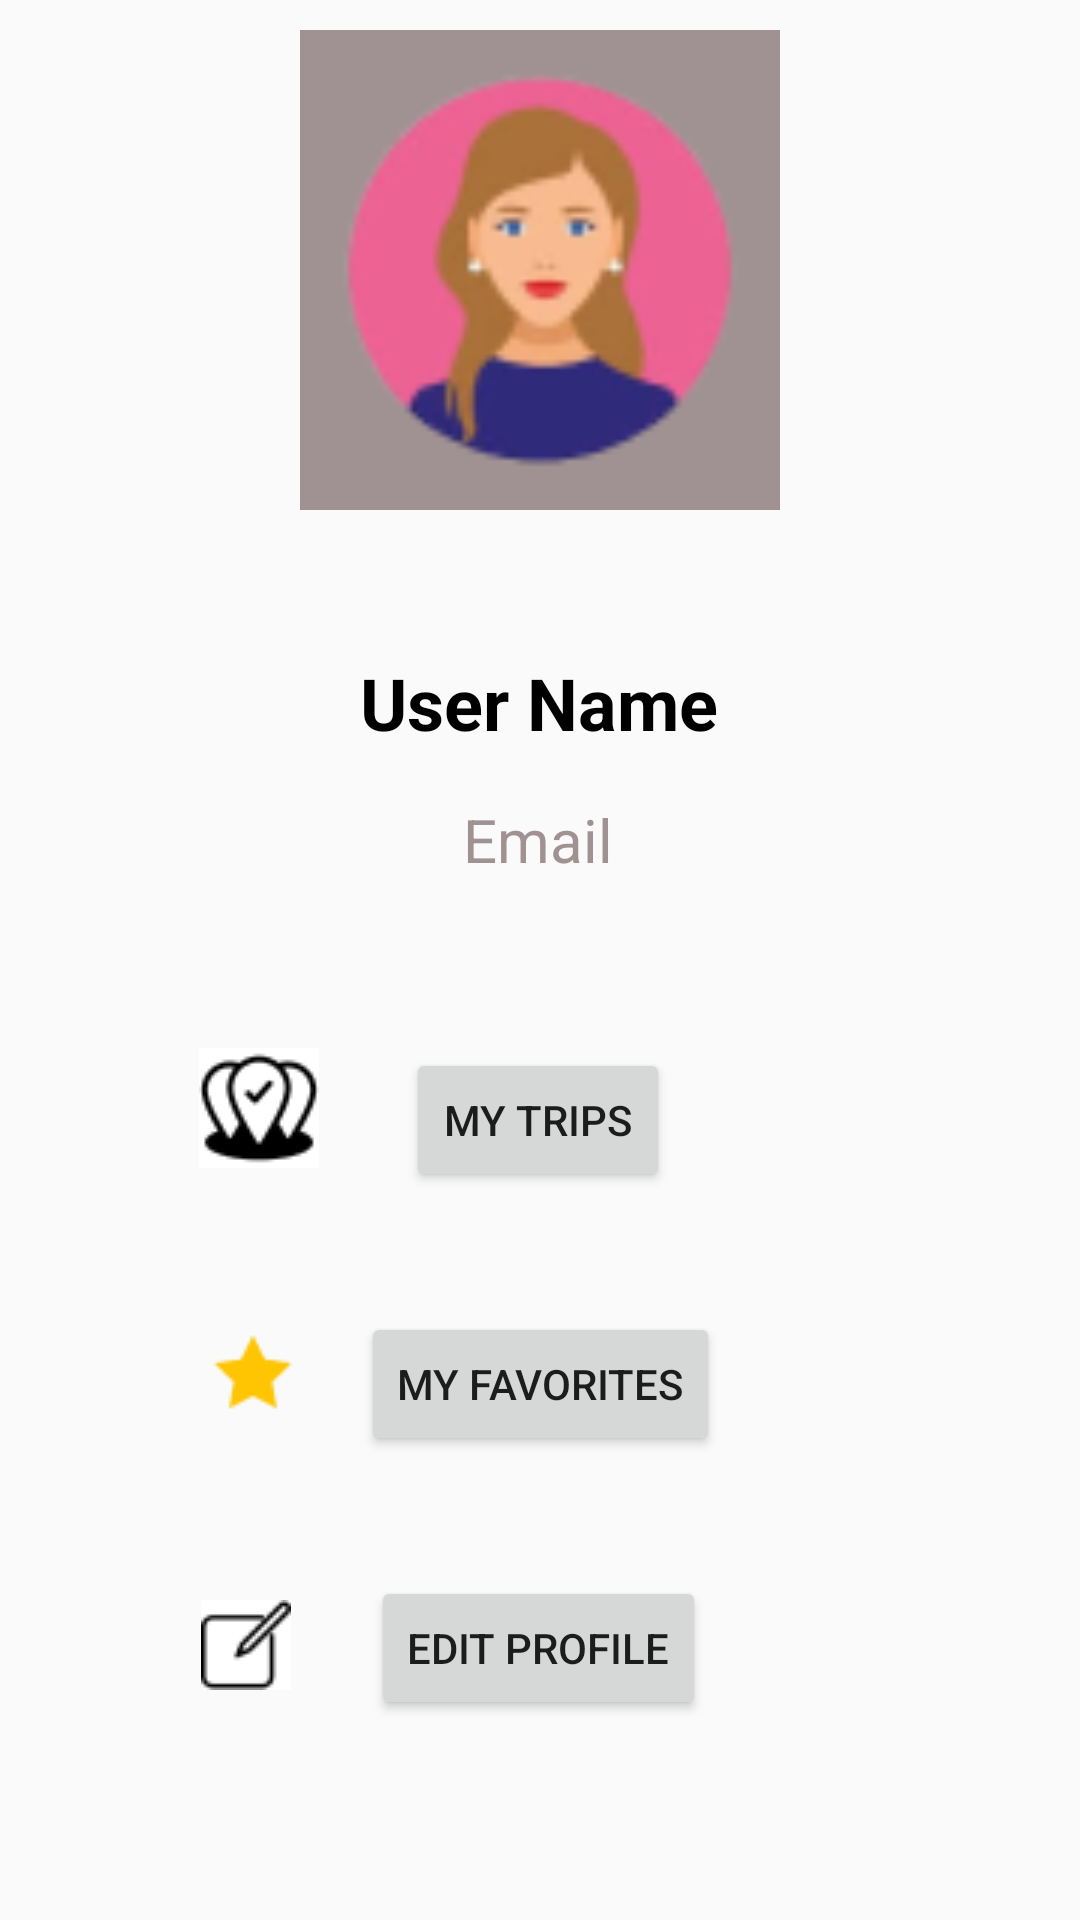

Icons on this 1080x1920 Android screen, each with its box as (x1, y1, x2, y2):
edit box: (201, 1600, 291, 1690)
locations group: (199, 1053, 319, 1163)
star: (213, 1335, 292, 1409)
